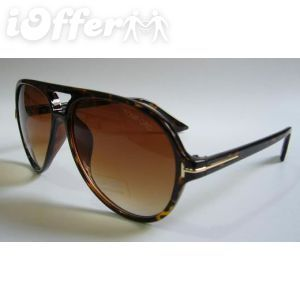sunglasses: (10, 76, 259, 222)
